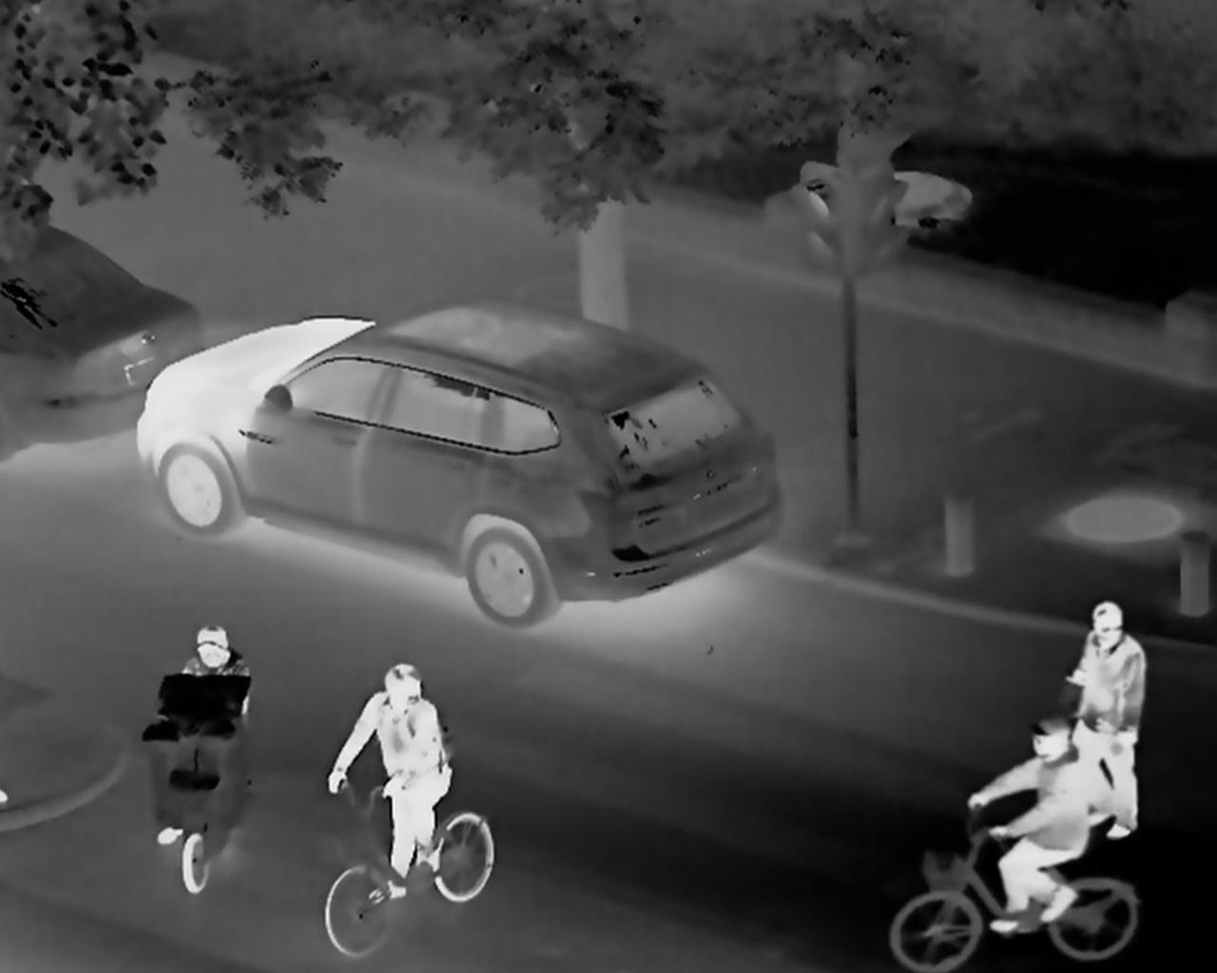person: (327, 659, 460, 906), (967, 712, 1080, 929), (151, 615, 243, 847), (1060, 598, 1148, 835)
